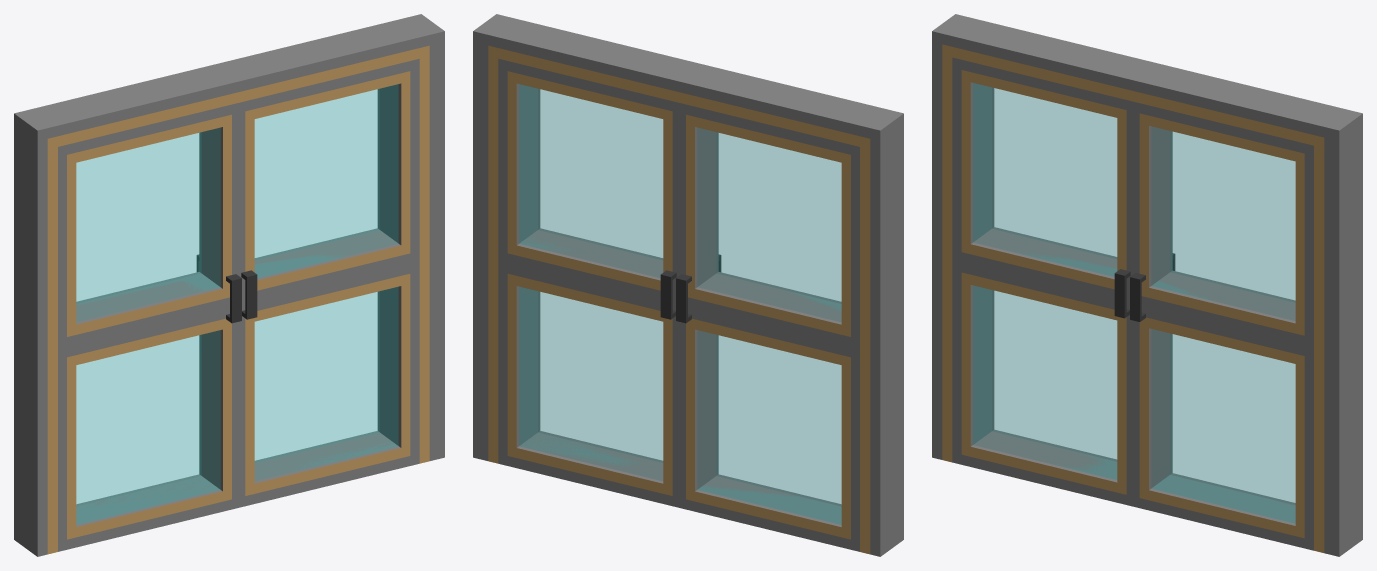
File: Gym Doorway.fbx
3 renders of one model, left to right at view 1: azimuth 30°, elevation 25°; view 2: azimuth 150°, elevation 25°; view 3: azimuth 330°, elevation 25°, orthographic.
Parts seen in each view (by area): view 1: Gym Doorway, Gym Door Glass.001, Gym Door Glass.000, Gym Door Right, Gym Door Left; view 2: Gym Doorway, Gym Door Glass.000, Gym Door Glass.001, Gym Door Left, Gym Door Right; view 3: Gym Doorway, Gym Door Glass.000, Gym Door Glass.001, Gym Door Right, Gym Door Left.
Boxes of the visible parts, x1,y1,x2,y2 form: Gym Doorway: (14,14,444,556); Gym Door Glass.001: (255,84,398,480); Gym Door Glass.000: (76,128,220,524); Gym Door Right: (58,102,241,551); Gym Door Left: (241,58,419,506); Gym Doorway: (473,14,903,556); Gym Door Glass.000: (697,128,841,524); Gym Door Glass.001: (519,84,662,480); Gym Door Left: (498,58,681,508); Gym Door Right: (676,103,859,551); Gym Doorway: (932,14,1362,556); Gym Door Glass.000: (973,83,1116,479); Gym Door Glass.001: (1151,127,1295,523); Gym Door Right: (952,57,1135,506); Gym Door Left: (1130,102,1313,550).
Size of the model in its own units: 800 by 800 by 120.
